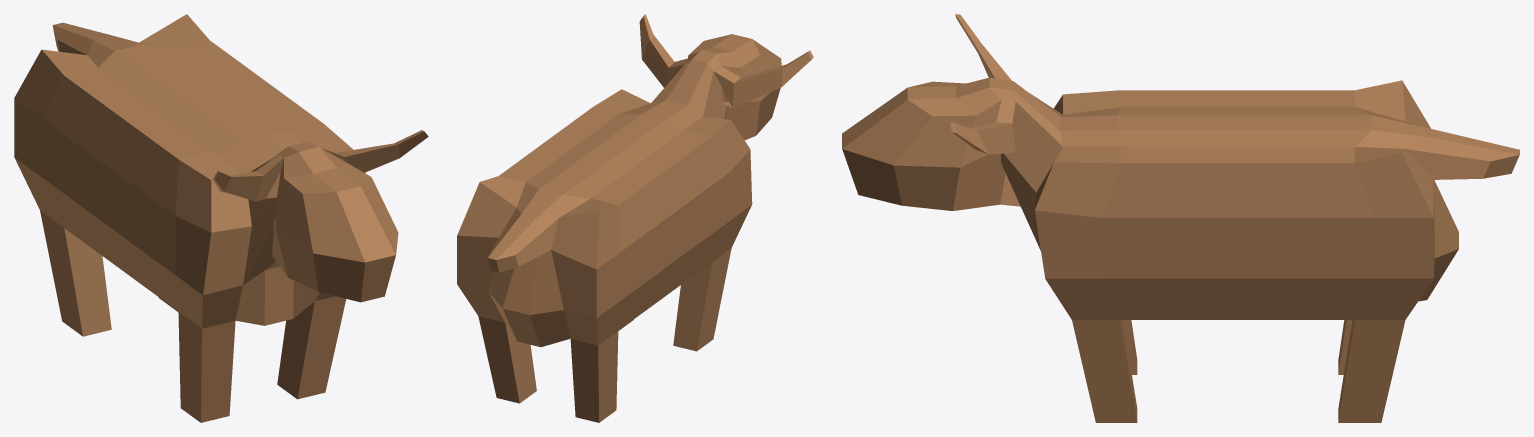
File: mumu.fbx
The picture shows the model from 3 angles, left to right: view 1: azimuth 30°, elevation 25°; view 2: azimuth 150°, elevation 25°; view 3: azimuth 270°, elevation 25°; orthographic projection. The views are drawn at different scales.
Parts seen in each view (by area): view 1: Cube; view 2: Cube; view 3: Cube.
Part boxes in pixels (x1,y1,x2,y2): Cube: (14,14,428,422); Cube: (457,14,813,422); Cube: (842,14,1519,422).
Bounding box in the file's own units: 212 × 299 × 571.
